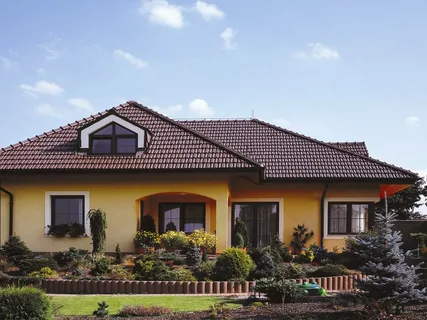private_hause: (17, 101, 393, 260)
